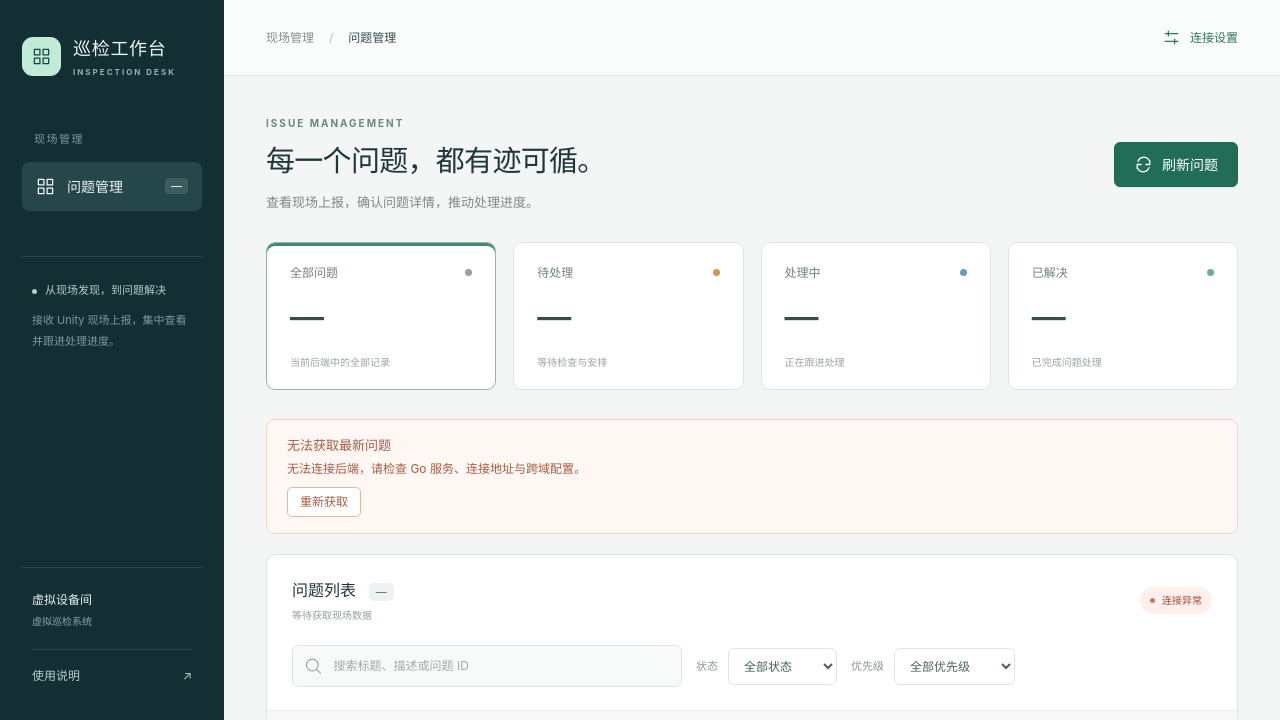
Test: 问题管理交互 › 后端不可用时显示错误，恢复后重试能读取数据
This screenshot has width=1280, height=720.
expect the message "无法获取最新问题 无法连接后端，请检查 Go 服务、连接地址与跨域配置。 重新获取" is shown: met, box top-left (266, 419), bottom-right (1238, 534)
expect the heading "每一个问题，都有迹可循。" is shown: met, box top-left (266, 141), bottom-right (606, 182)
Click the button "重新获取": (324, 502) top-left (287, 487), bottom-right (361, 517)
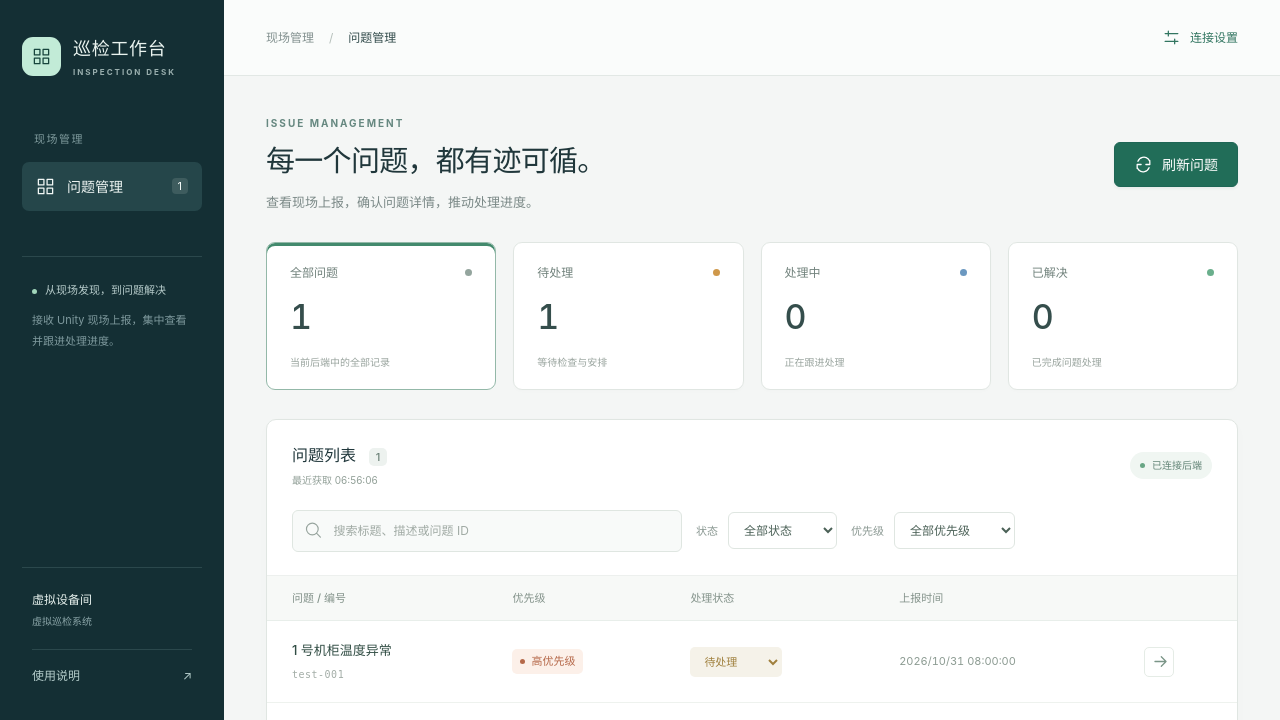
expect the button "1 号机柜温度异常" is shown: met, box top-left (292, 641), bottom-right (392, 661)
expect the message "无法获取最新问题 无法连接后端，请检查 Go 服务、连接地址与跨域配置。 重新获取" is gone: met
